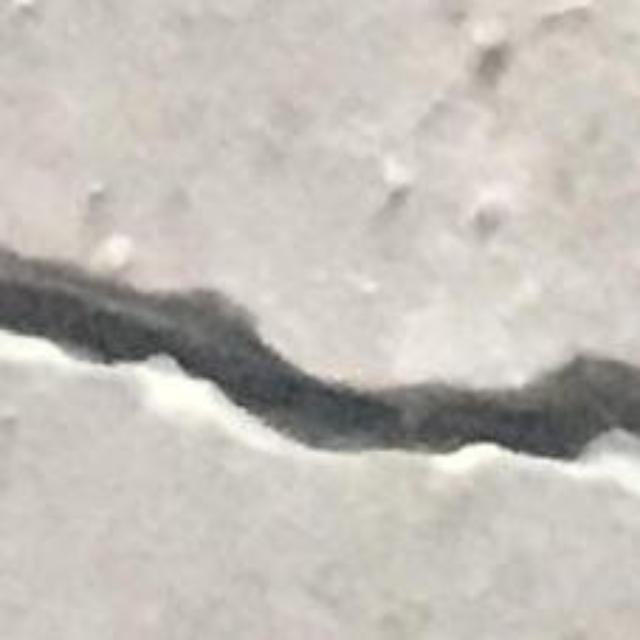crack: (0, 249, 639, 459)
